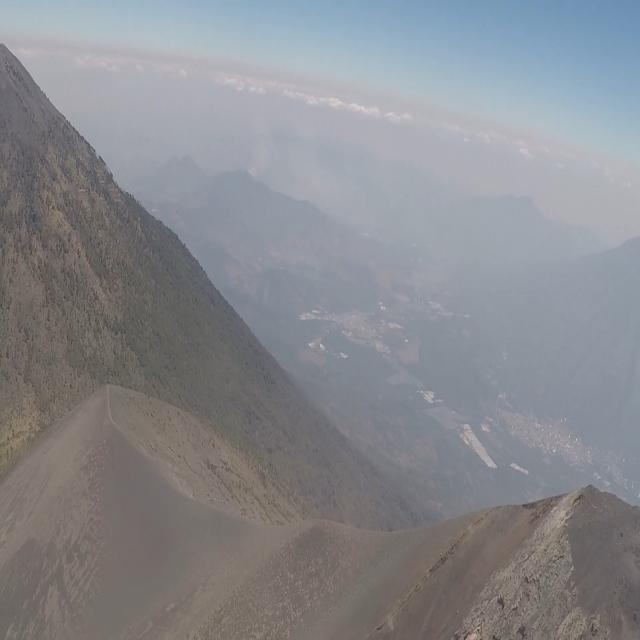Summit: (360, 459, 640, 640)
